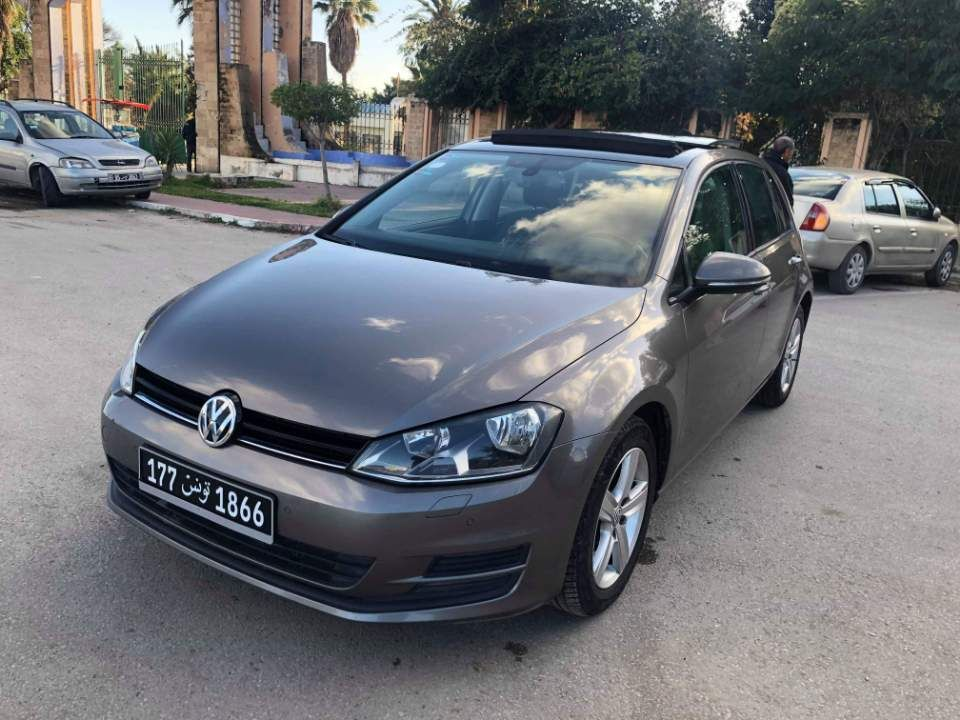LP: (133, 445, 274, 547)
